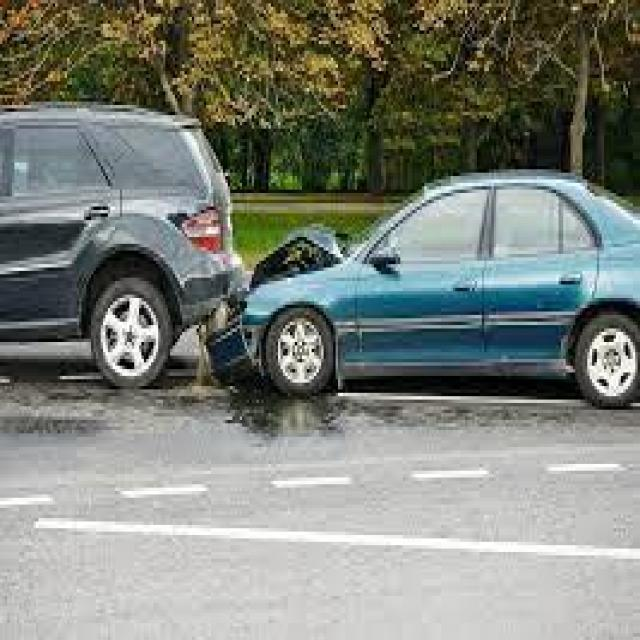multiple_accident: (164, 181, 353, 403)
